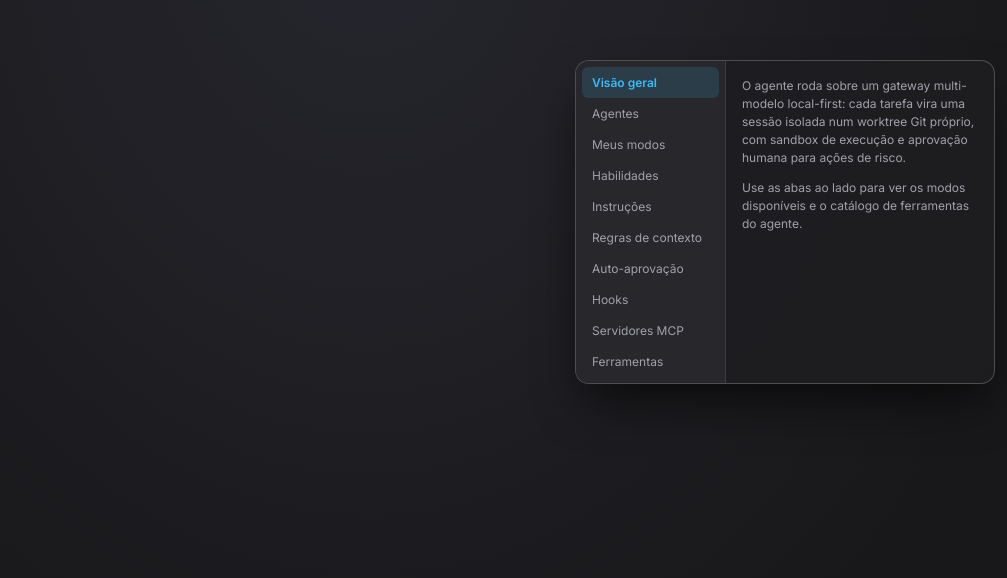
CustomizationsPopover — aba Meus modos (Fase 6) › cria um modo novo com ferramentas selecionadas e salva via createCustomMode
Click the button "Meus modos" at (650, 144), box [582, 129, 719, 160]
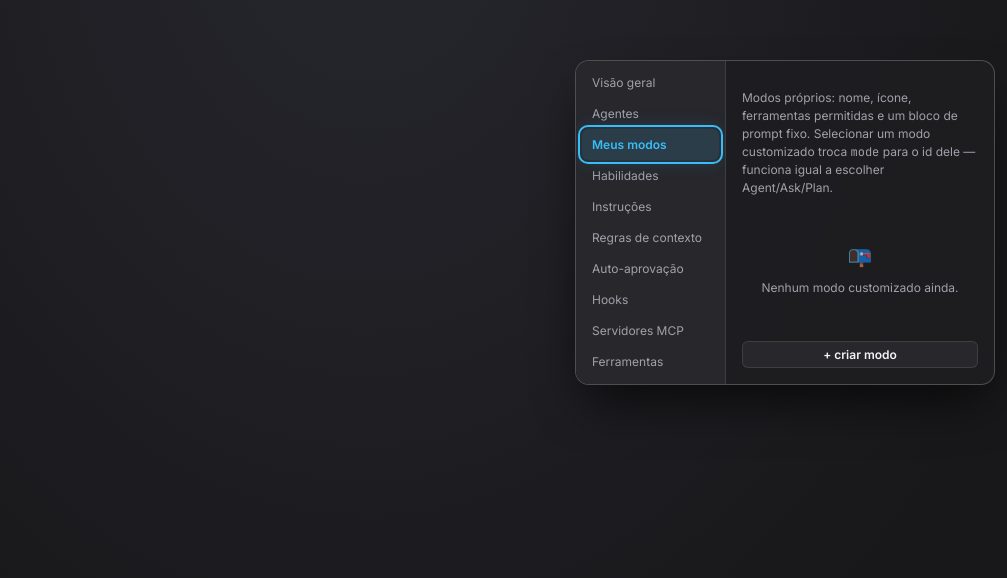
Click the button "+ criar modo" at (860, 354), box [742, 341, 978, 368]
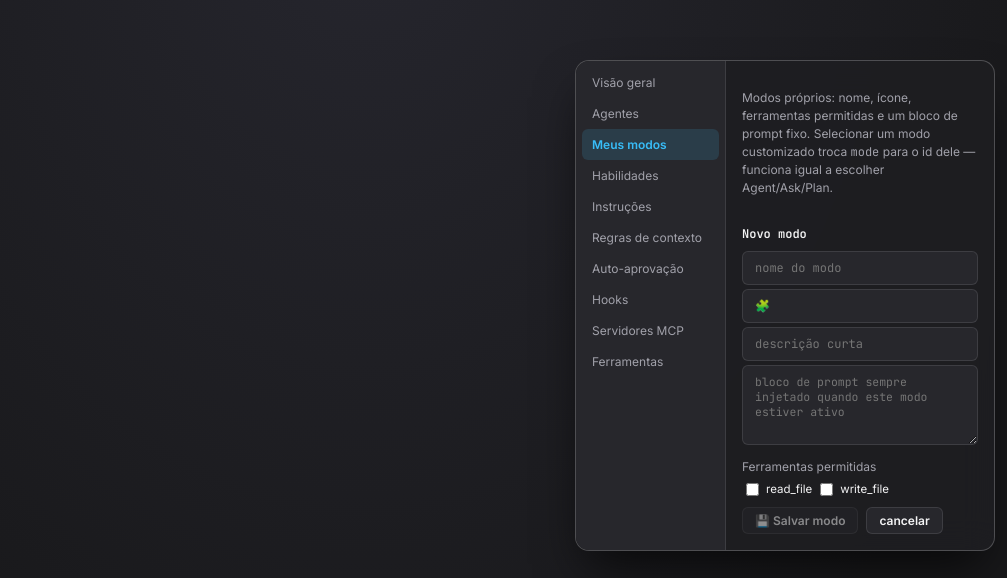
Type "Revisor" into the field with placeholder "nome do modo" at (860, 268), box [742, 251, 978, 285]
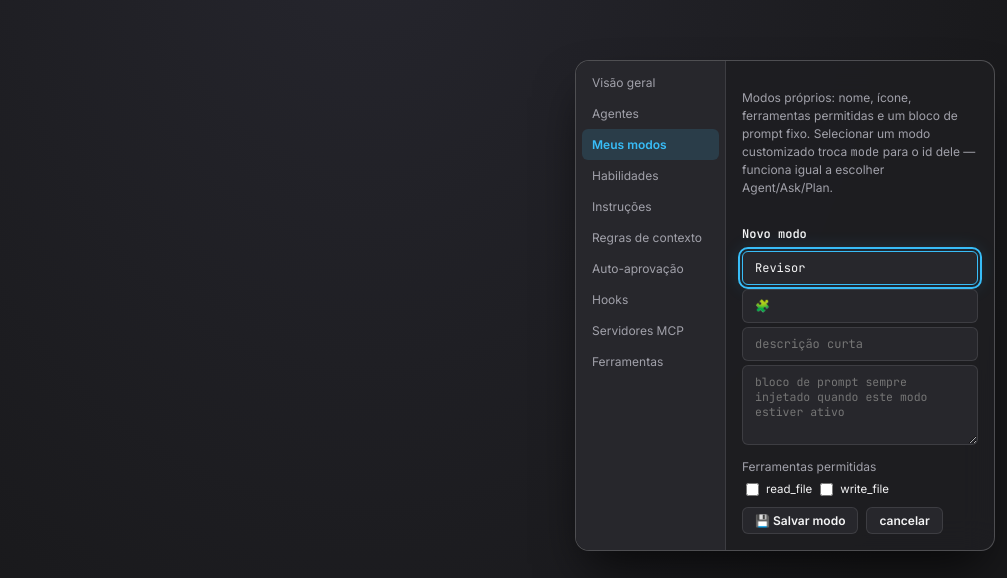
Click the checkbox labelled "read_file" at (752, 490), box [746, 483, 759, 496]
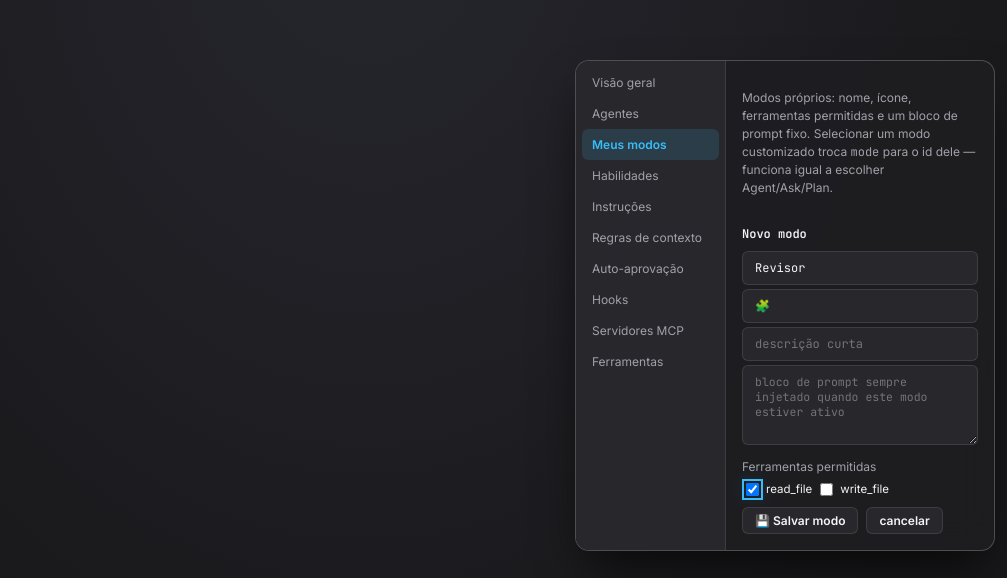
Type "Revise só a camada de dados." into the text box with placeholder "bloco de prompt sempre injetado quando este modo estiver ativo" at (860, 405), box [742, 365, 978, 445]
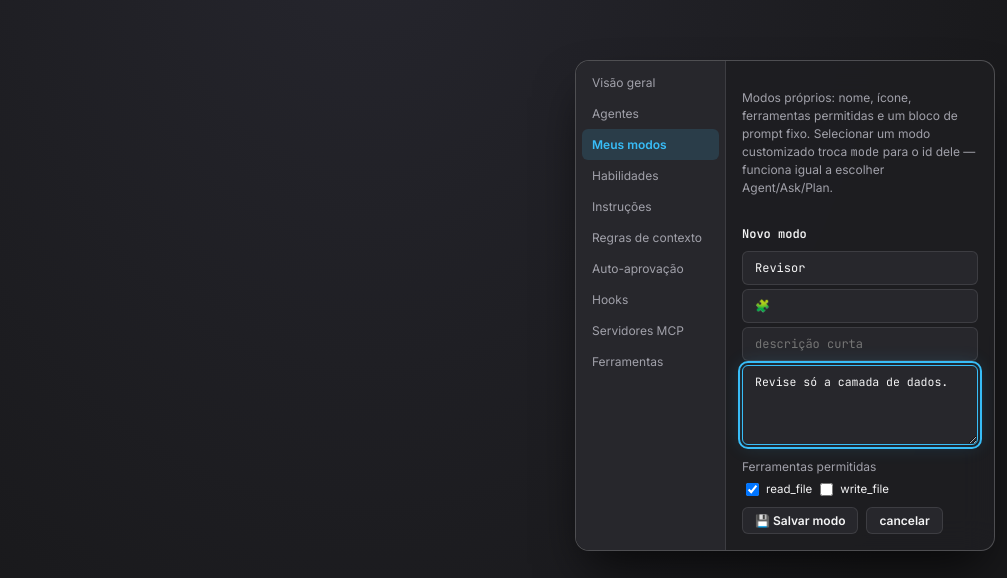
Click the button "💾 Salvar modo" at (800, 520), box [742, 507, 858, 534]
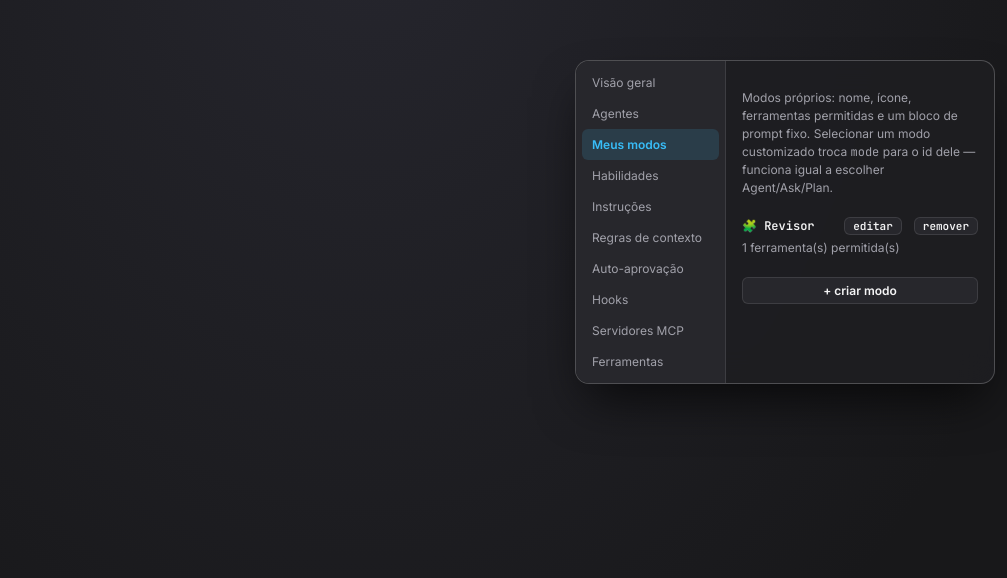
Check: the button "🧩 Revisor" is shown, box [742, 217, 836, 235]
